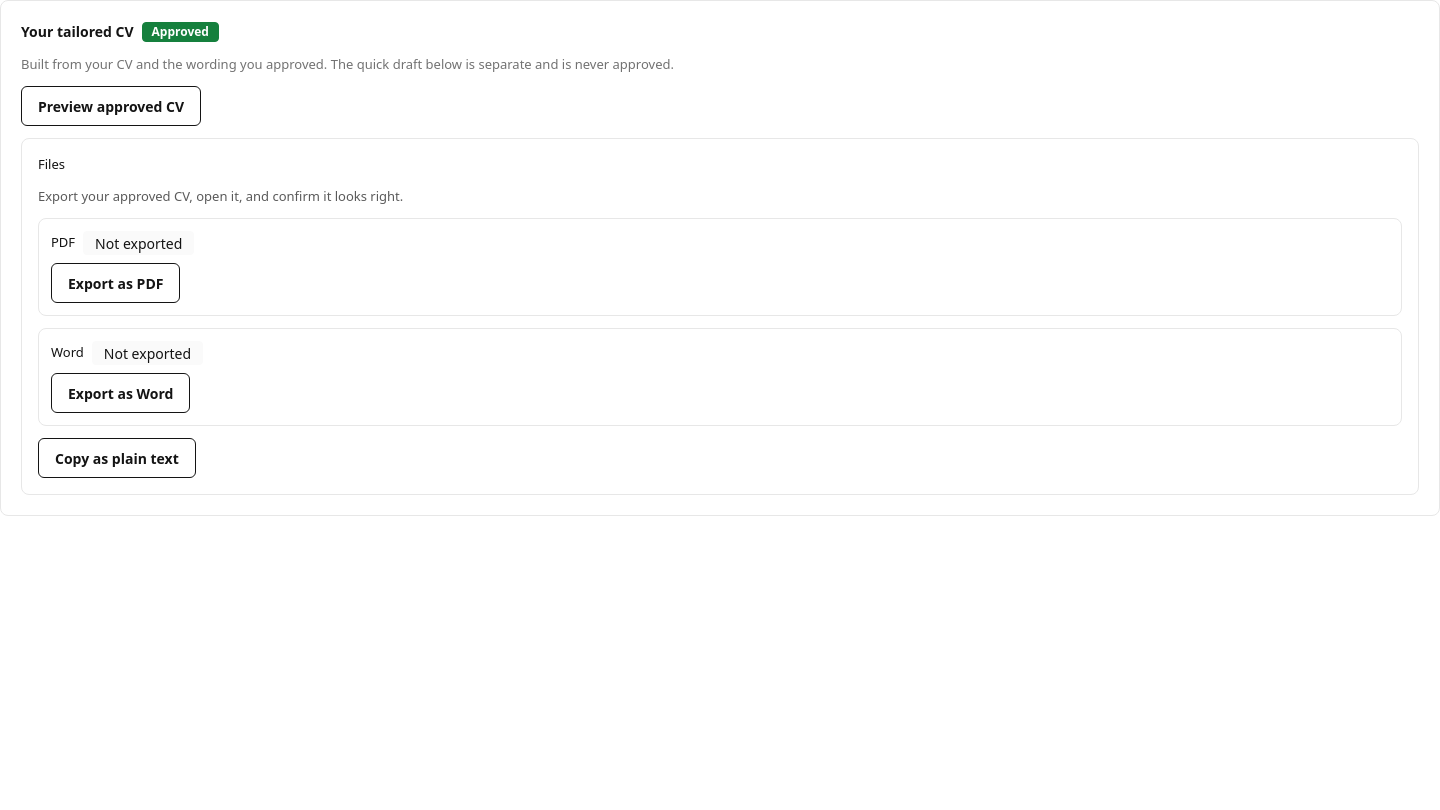
Test case: ComposedCvReview (#419, step 5-6) › exports the approved composition via the overlay id, and shows the saved path
The image size is (1440, 810).
Click the button "Export as PDF". click: (116, 283)
box: [51,263,180,303]
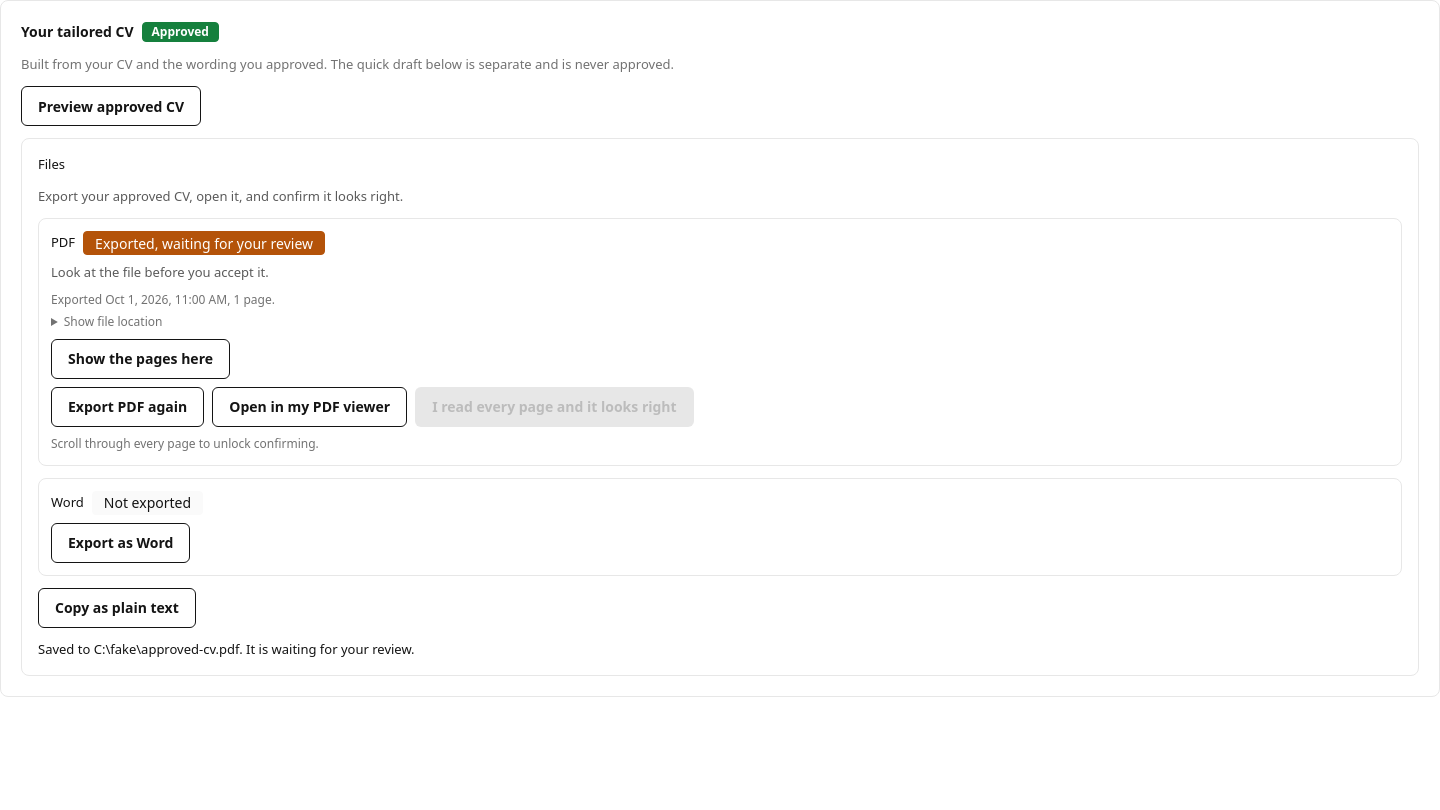
Now the text "Saved to C:\\fake\\approved-cv.pdf. It is waiting for your review." is shown, box [38,640,415,658]
Now the message "Exported, waiting for your review" is shown, box [83,231,325,255]
